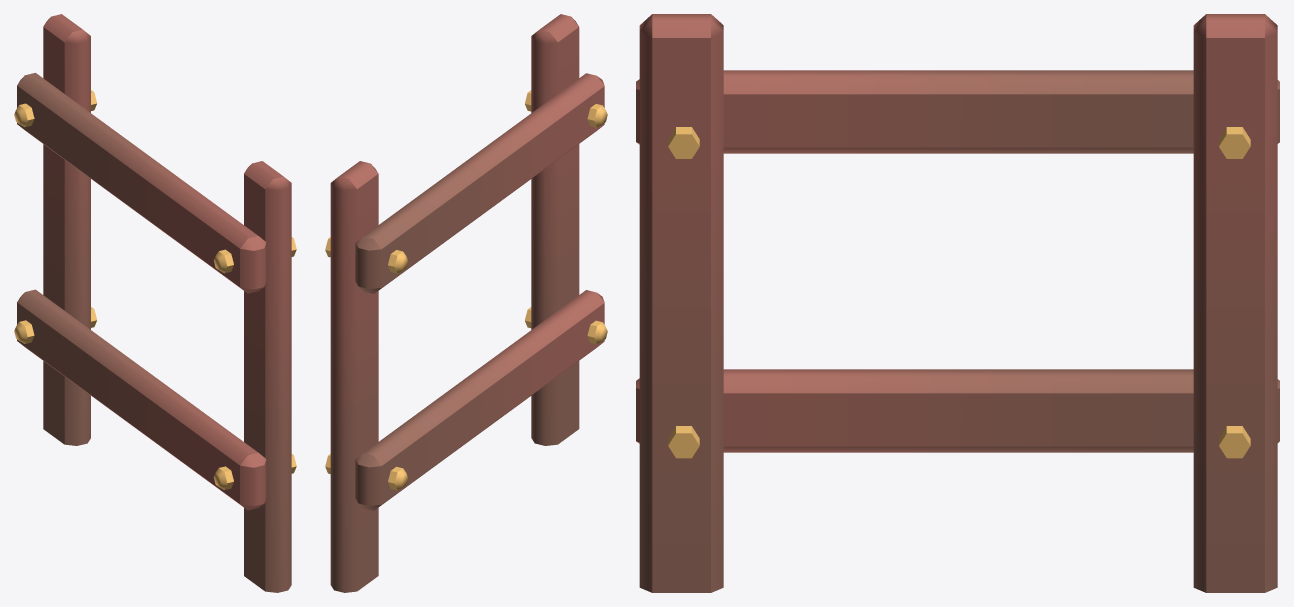
File: Fence_Mesh_03.fbx
3 views of the same model, side by side, from view 1: azimuth 30°, elevation 25°; view 2: azimuth 150°, elevation 25°; view 3: azimuth 270°, elevation 25° (orthographic). The views are drawn at different scales.
Visible parts, largest first — view 1: Fence_03; view 2: Fence_03; view 3: Fence_03.
Part boxes in pixels (x1,y1,x2,y2): Fence_03: (14, 14, 296, 592); Fence_03: (325, 14, 607, 592); Fence_03: (636, 14, 1279, 592).
Bounding box in the file's own units: 0.2959 × 1.58 × 1.63.
